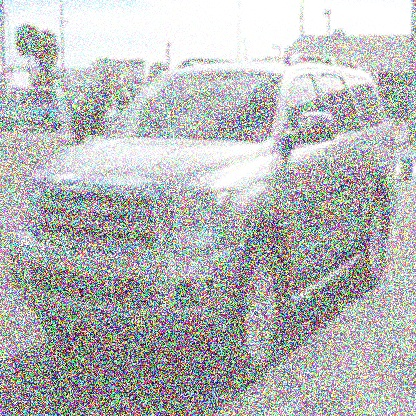Vehicle: (14, 59, 395, 375)
